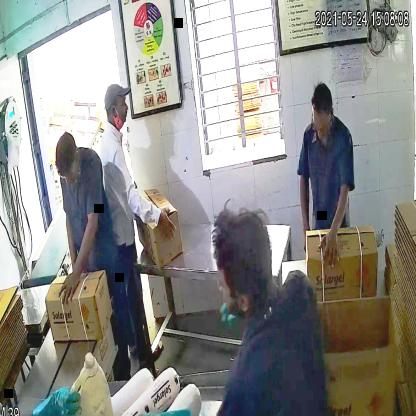no_goggles: (103, 95, 128, 114)
